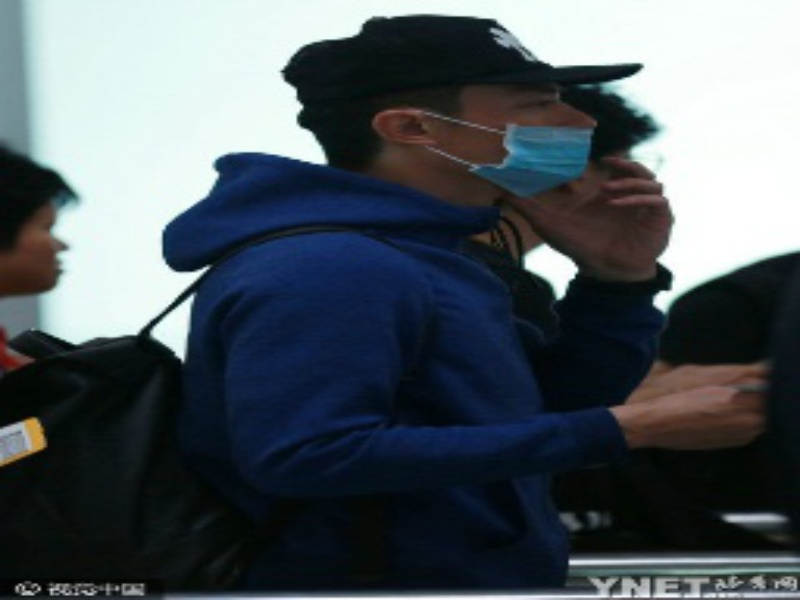ManaoArotava: (343, 18, 599, 245)
TsisyArotava: (4, 138, 100, 340)
